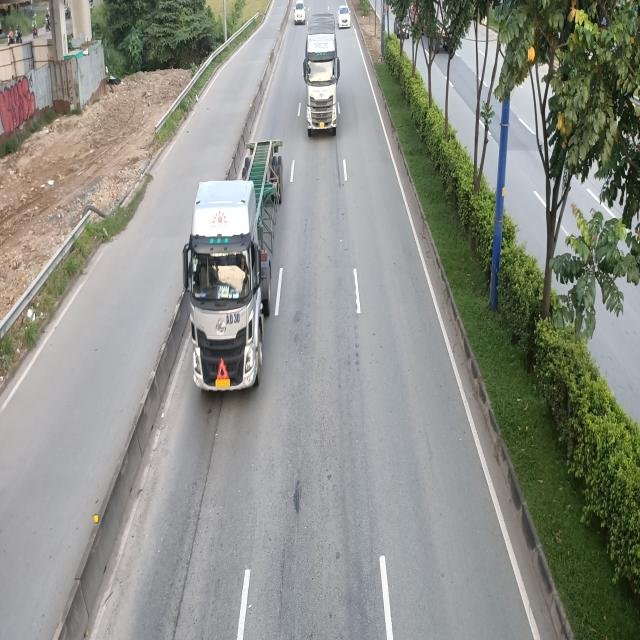container: (184, 141, 286, 396)
truck: (301, 15, 339, 137)
